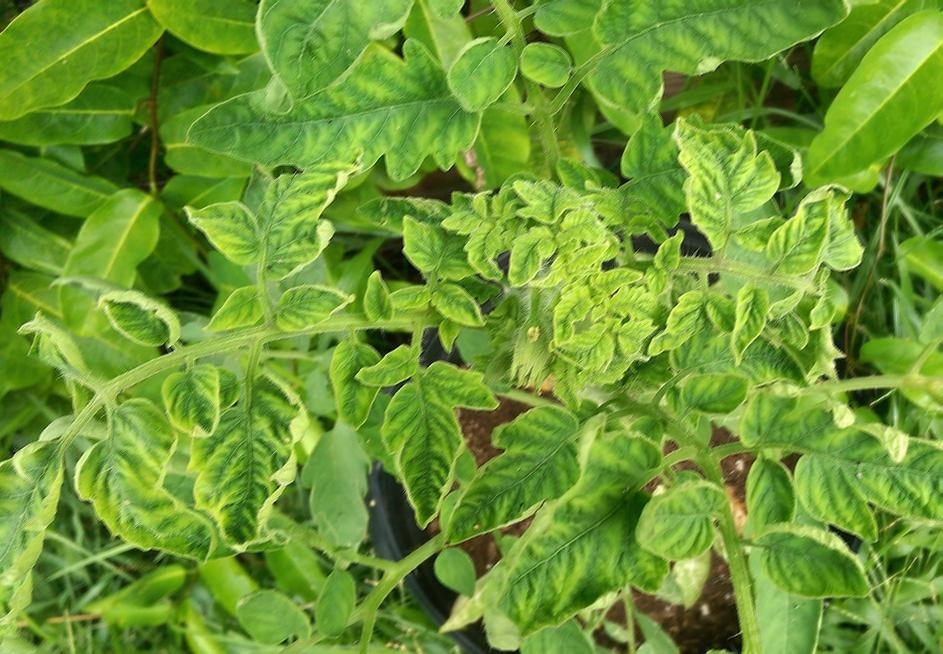Tomato leaf yellow virus: (487, 408, 702, 634), (172, 53, 495, 179), (729, 364, 943, 552), (581, 0, 851, 134), (339, 339, 517, 535), (78, 391, 229, 603), (796, 6, 943, 199), (34, 187, 163, 384), (0, 0, 174, 145), (197, 361, 310, 566), (437, 398, 596, 536), (249, 0, 431, 112), (225, 154, 354, 291), (670, 119, 788, 250), (629, 459, 741, 577), (94, 287, 184, 352), (270, 275, 355, 337), (726, 281, 774, 364), (646, 292, 707, 355), (504, 223, 557, 294), (549, 324, 621, 375), (426, 282, 492, 328), (361, 266, 397, 332)
